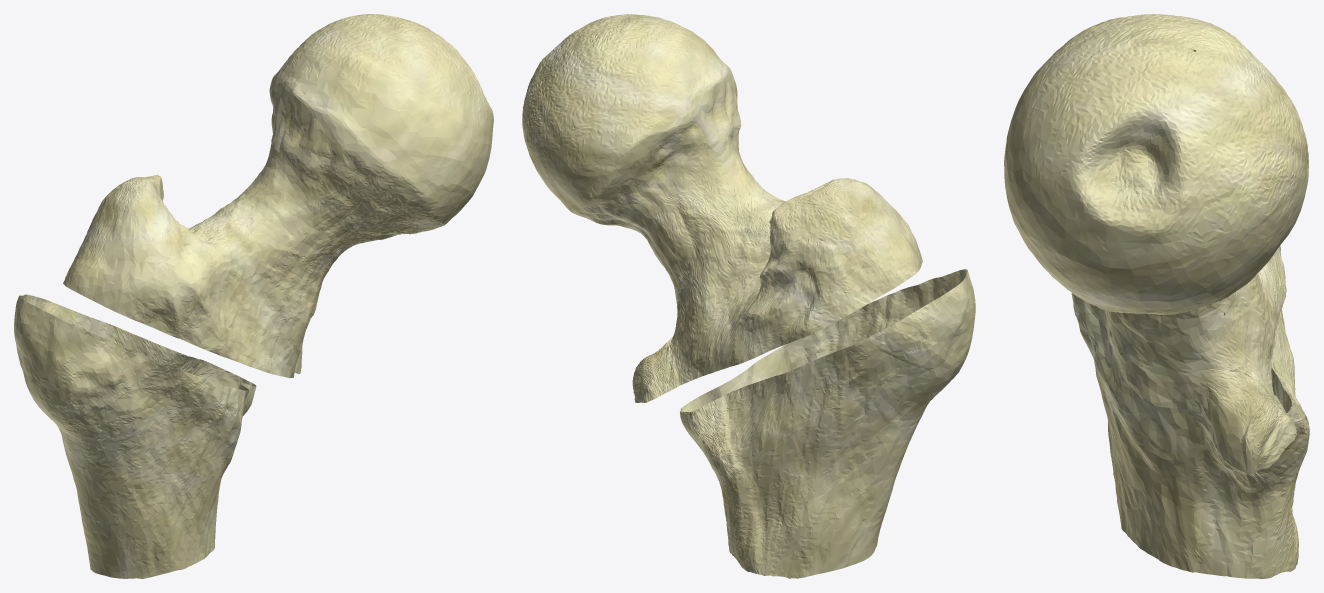
Rendered from BasicervicalFracture.fbx.
The picture shows the model from 3 angles, left to right: view 1: azimuth 30°, elevation 25°; view 2: azimuth 150°, elevation 25°; view 3: azimuth 270°, elevation 25°; orthographic projection. The views are drawn at different scales.
Visible parts, largest first — view 1: head.002, UnknownTop.001, neck.002, UnknownTop.002, greater trochanter.002, greater trochanter.001, lesser trochanter.001; view 2: UnknownTop.001, head.002, neck.002, UnknownTop.002, greater trochanter.002, greater trochanter.001, lesser trochanter.001, lesser trochanter.002; view 3: head.002, UnknownTop.001, UnknownTop.002, lesser trochanter.002, neck.002, lesser trochanter.001.
Part boxes in pixels (x1,y1,x2,y2): head.002: (269, 14, 493, 234); UnknownTop.001: (32, 296, 249, 578); neck.002: (216, 112, 398, 312); UnknownTop.002: (156, 183, 314, 378); greater trochanter.002: (63, 175, 191, 328); greater trochanter.001: (14, 294, 111, 426); lesser trochanter.001: (183, 357, 256, 415); UnknownTop.001: (712, 277, 945, 578); head.002: (522, 14, 737, 221); neck.002: (594, 107, 783, 303); UnknownTop.002: (668, 201, 832, 388); greater trochanter.002: (770, 178, 922, 323); greater trochanter.001: (878, 269, 975, 393); lesser trochanter.001: (680, 377, 734, 470); lesser trochanter.002: (632, 341, 673, 402); head.002: (1004, 14, 1308, 314); UnknownTop.001: (1071, 246, 1309, 578); UnknownTop.002: (1073, 246, 1286, 417); lesser trochanter.002: (1193, 373, 1296, 473); neck.002: (1120, 293, 1233, 339); lesser trochanter.001: (1200, 373, 1308, 488).
Size of the model in its own units: 172 by 180 by 75.92.
